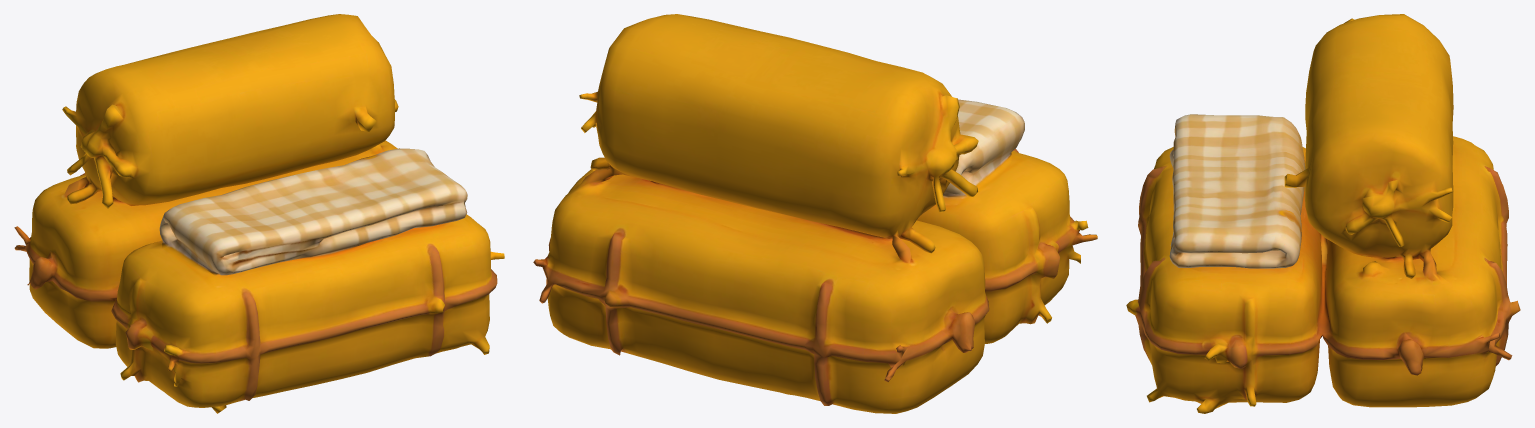
The picture shows the model from 3 angles, left to right: view 1: azimuth 30°, elevation 25°; view 2: azimuth 150°, elevation 25°; view 3: azimuth 270°, elevation 25°; orthographic projection. The views are drawn at different scales.
Parts seen in each view (by area): view 1: hay-bench; view 2: hay-bench; view 3: hay-bench.
Part boxes in pixels (left/top/right/bottom): hay-bench: left=14, top=14, right=504, bottom=413; hay-bench: left=533, top=14, right=1097, bottom=413; hay-bench: left=1126, top=14, right=1520, bottom=413.
Size of the model in its own units: 1.47 by 1 by 1.31.
Materials: 1 (1 with a texture image).
